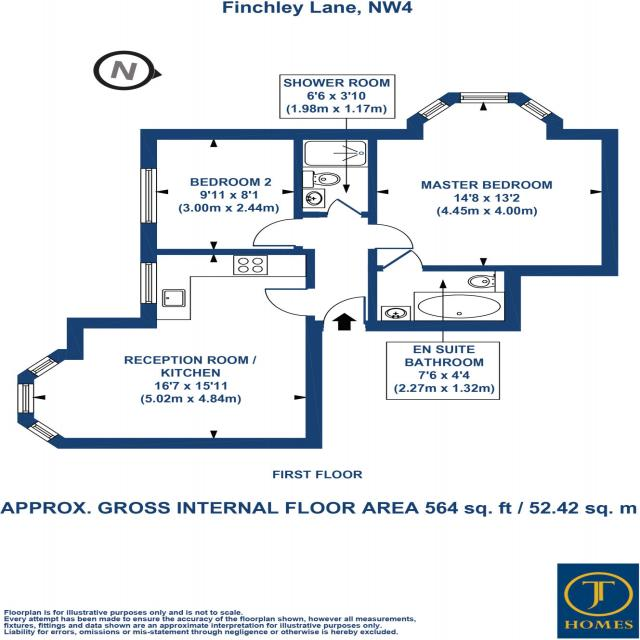DOOR: (261, 286, 316, 319), (249, 217, 304, 247), (368, 222, 417, 252), (377, 247, 426, 272)
ROOM: (15, 248, 324, 451), (367, 92, 619, 332), (140, 129, 301, 249)
WINDOW: (136, 167, 159, 224), (137, 260, 161, 306), (413, 97, 453, 122), (24, 354, 62, 379), (24, 420, 61, 444), (519, 98, 553, 121), (15, 382, 37, 414), (458, 91, 511, 104)
